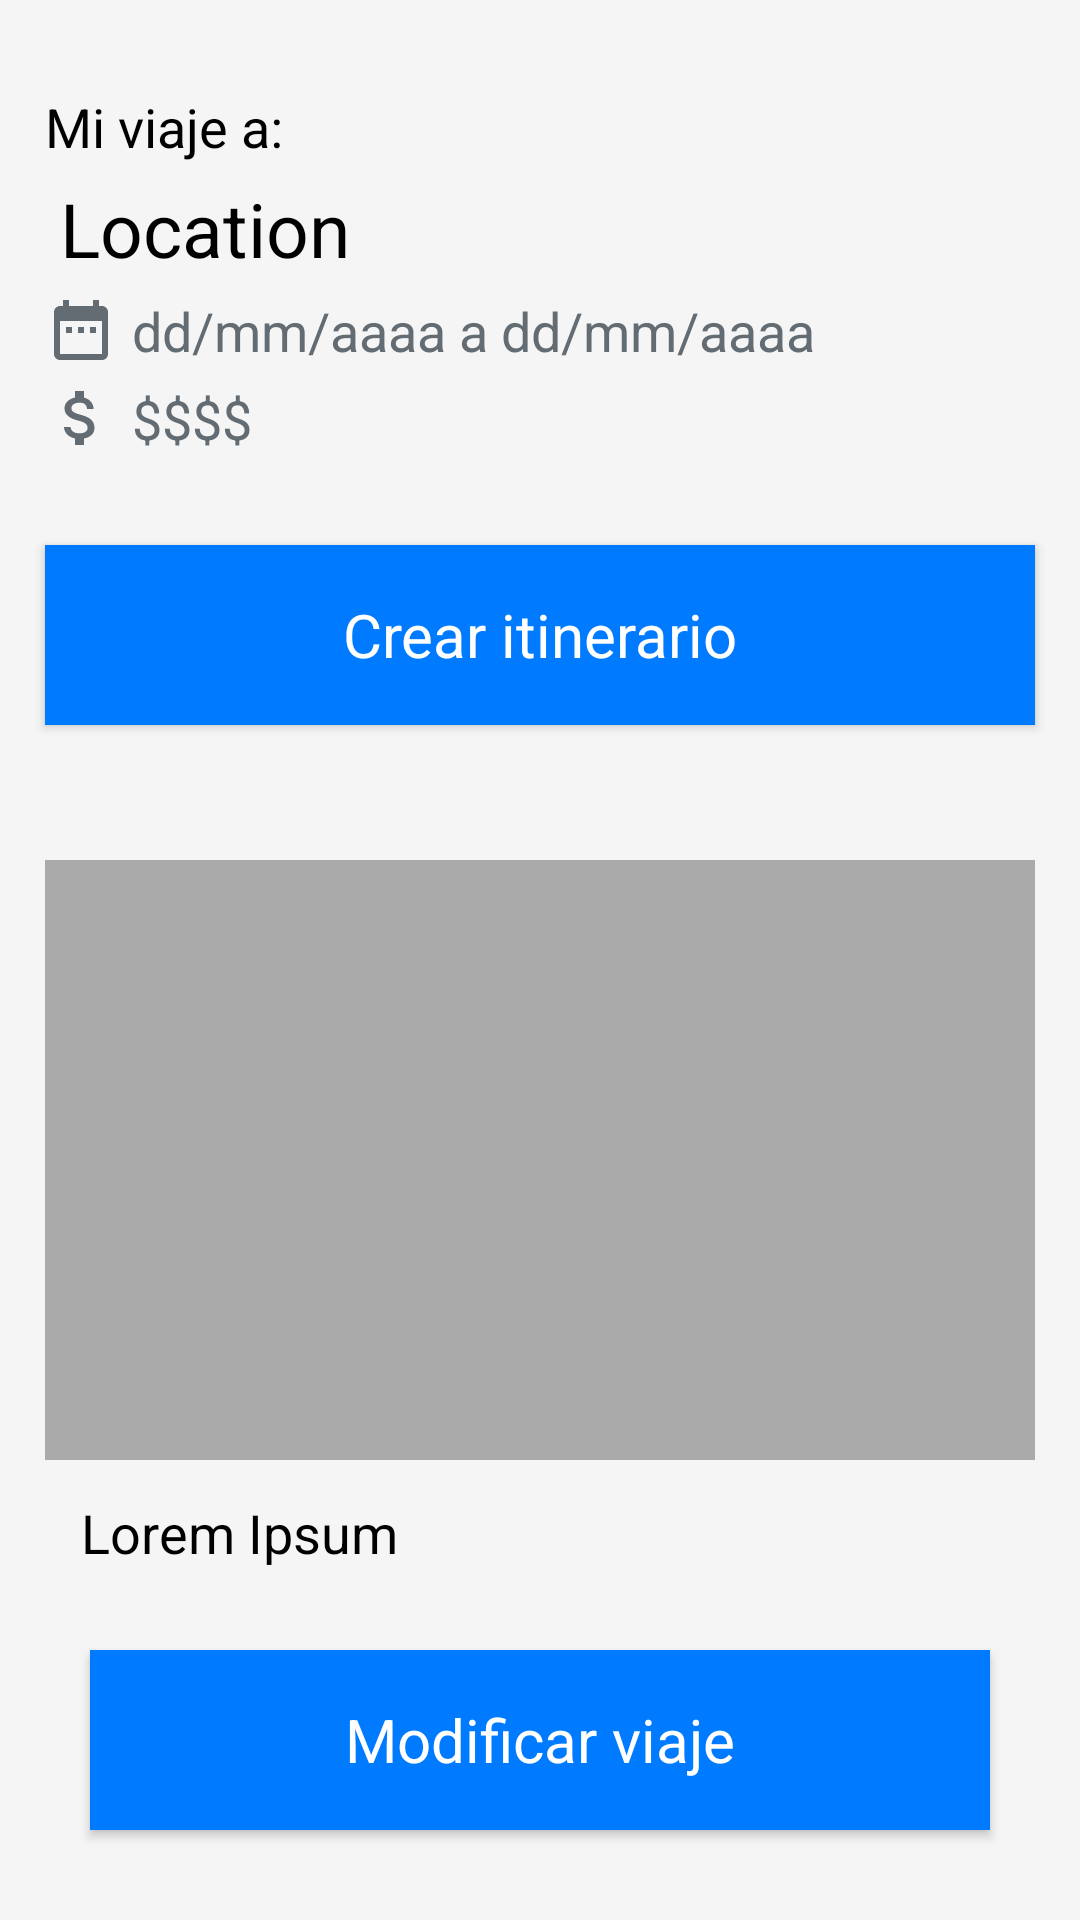

Icon click points for this 1080×1920 phone screenshot, format [x,y]:
attach money: [79,418]
date range: [81,330]
